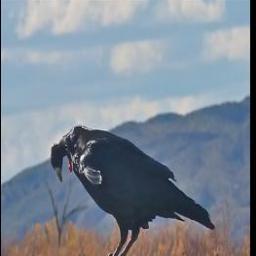Crow: (50, 122, 217, 256)
